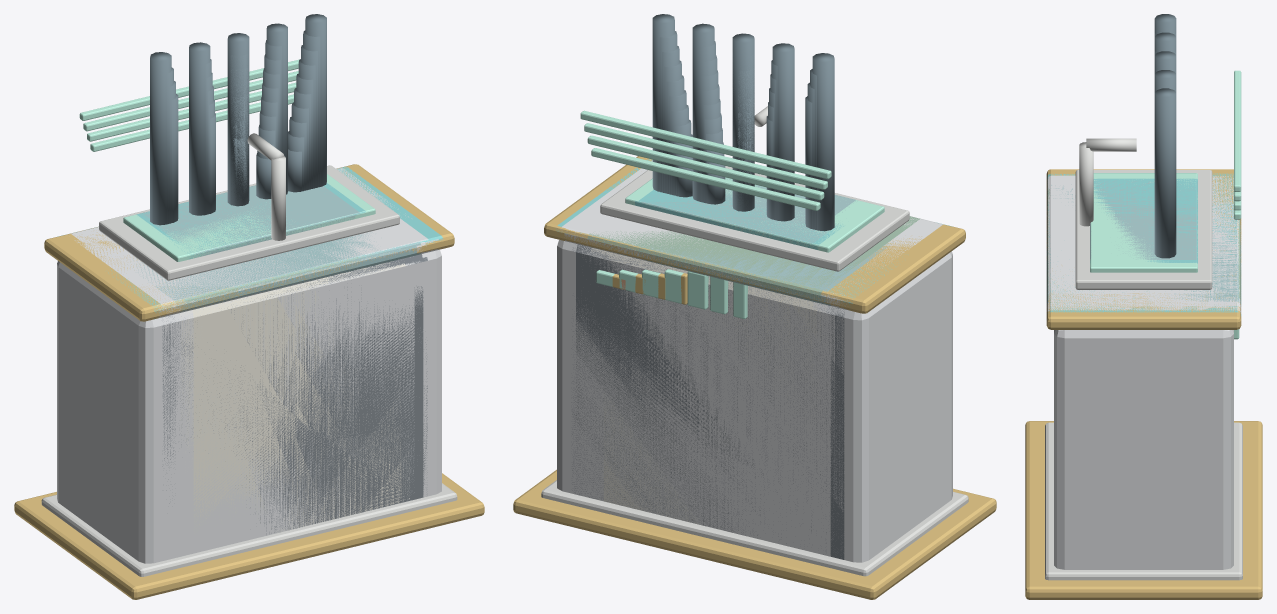
Rendered from Gear17.fbx.
3 views of the same model, side by side, from view 1: azimuth 30°, elevation 25°; view 2: azimuth 150°, elevation 25°; view 3: azimuth 270°, elevation 25° (orthographic). The views are drawn at different scales.
Visible parts, largest first — view 1: Gear17_V10_Platinum, Gear17_V5_Platinum, Gear17_V7_Graphite, Gear17_V1_Ivory, Gear17_V10_Gold, Gear17_V10_Glass, Gear17_V3_Blue, Gear17_V10_Chrome, Gear17_V9_Gold, Gear17_V6_Platinum, Gear17_V2_Blue, Gear17_V10_Glow (+32 smaller); view 2: Gear17_V10_Platinum, Gear17_V5_Platinum, Gear17_V10_Gold, Gear17_V7_Graphite, Gear17_V10_Glass, Gear17_V10_Chrome, Gear17_V1_Sage, Gear17_V8_Graphite, Gear17_V10_Glow, Gear17_V9_Gold, Gear17_V1_Ivory, Gear17_V2_Blue (+25 smaller); view 3: Gear17_V10_Platinum, Gear17_V10_Gold, Gear17_V10_Chrome, Gear17_V5_Platinum, Gear17_V10_Glass, Gear17_V10_Glow, Gear17_V6_Platinum, Gear17_V9_Gold, Gear17_V5_Blue, Gear17_V7_Platinum, Gear17_V6_Aqua, Gear17_V8_Aqua (+11 smaller).
Boxes of the visible parts, x1,y1,x2,y2 form: Gear17_V10_Platinum: [57, 249, 441, 563]; Gear17_V5_Platinum: [71, 218, 428, 557]; Gear17_V7_Graphite: [167, 254, 423, 534]; Gear17_V1_Ivory: [192, 273, 382, 533]; Gear17_V10_Gold: [14, 164, 484, 599]; Gear17_V10_Glass: [150, 14, 326, 225]; Gear17_V3_Blue: [133, 187, 420, 312]; Gear17_V10_Chrome: [41, 165, 457, 576]; Gear17_V9_Gold: [40, 166, 477, 598]; Gear17_V6_Platinum: [74, 168, 433, 502]; Gear17_V2_Blue: [83, 185, 416, 311]; Gear17_V10_Glow: [79, 59, 375, 261]; Gear17_V10_Platinum: [557, 240, 952, 562]; Gear17_V5_Platinum: [570, 208, 909, 556]; Gear17_V10_Gold: [513, 156, 996, 599]; Gear17_V7_Graphite: [576, 244, 840, 558]; Gear17_V10_Glass: [652, 14, 834, 231]; Gear17_V10_Chrome: [541, 166, 968, 576]; Gear17_V1_Sage: [587, 216, 920, 301]; Gear17_V8_Graphite: [571, 247, 844, 559]; Gear17_V10_Glow: [580, 110, 884, 317]; Gear17_V9_Gold: [520, 158, 962, 598]; Gear17_V1_Ivory: [603, 252, 813, 523]; Gear17_V2_Blue: [585, 201, 892, 304]; Gear17_V10_Platinum: [1054, 330, 1233, 569]; Gear17_V10_Gold: [1025, 169, 1262, 599]; Gear17_V10_Chrome: [1045, 170, 1242, 580]; Gear17_V5_Platinum: [1046, 180, 1240, 308]; Gear17_V10_Glass: [1154, 14, 1176, 258]; Gear17_V10_Glow: [1090, 70, 1241, 339]; Gear17_V6_Platinum: [1046, 178, 1241, 311]; Gear17_V9_Gold: [1025, 171, 1262, 587]; Gear17_V5_Blue: [1090, 180, 1197, 260]; Gear17_V7_Platinum: [1047, 175, 1241, 313]; Gear17_V6_Aqua: [1093, 178, 1197, 261]; Gear17_V8_Aqua: [1047, 173, 1241, 315].
Size of the model in its own units: 111 by 141 by 66.
